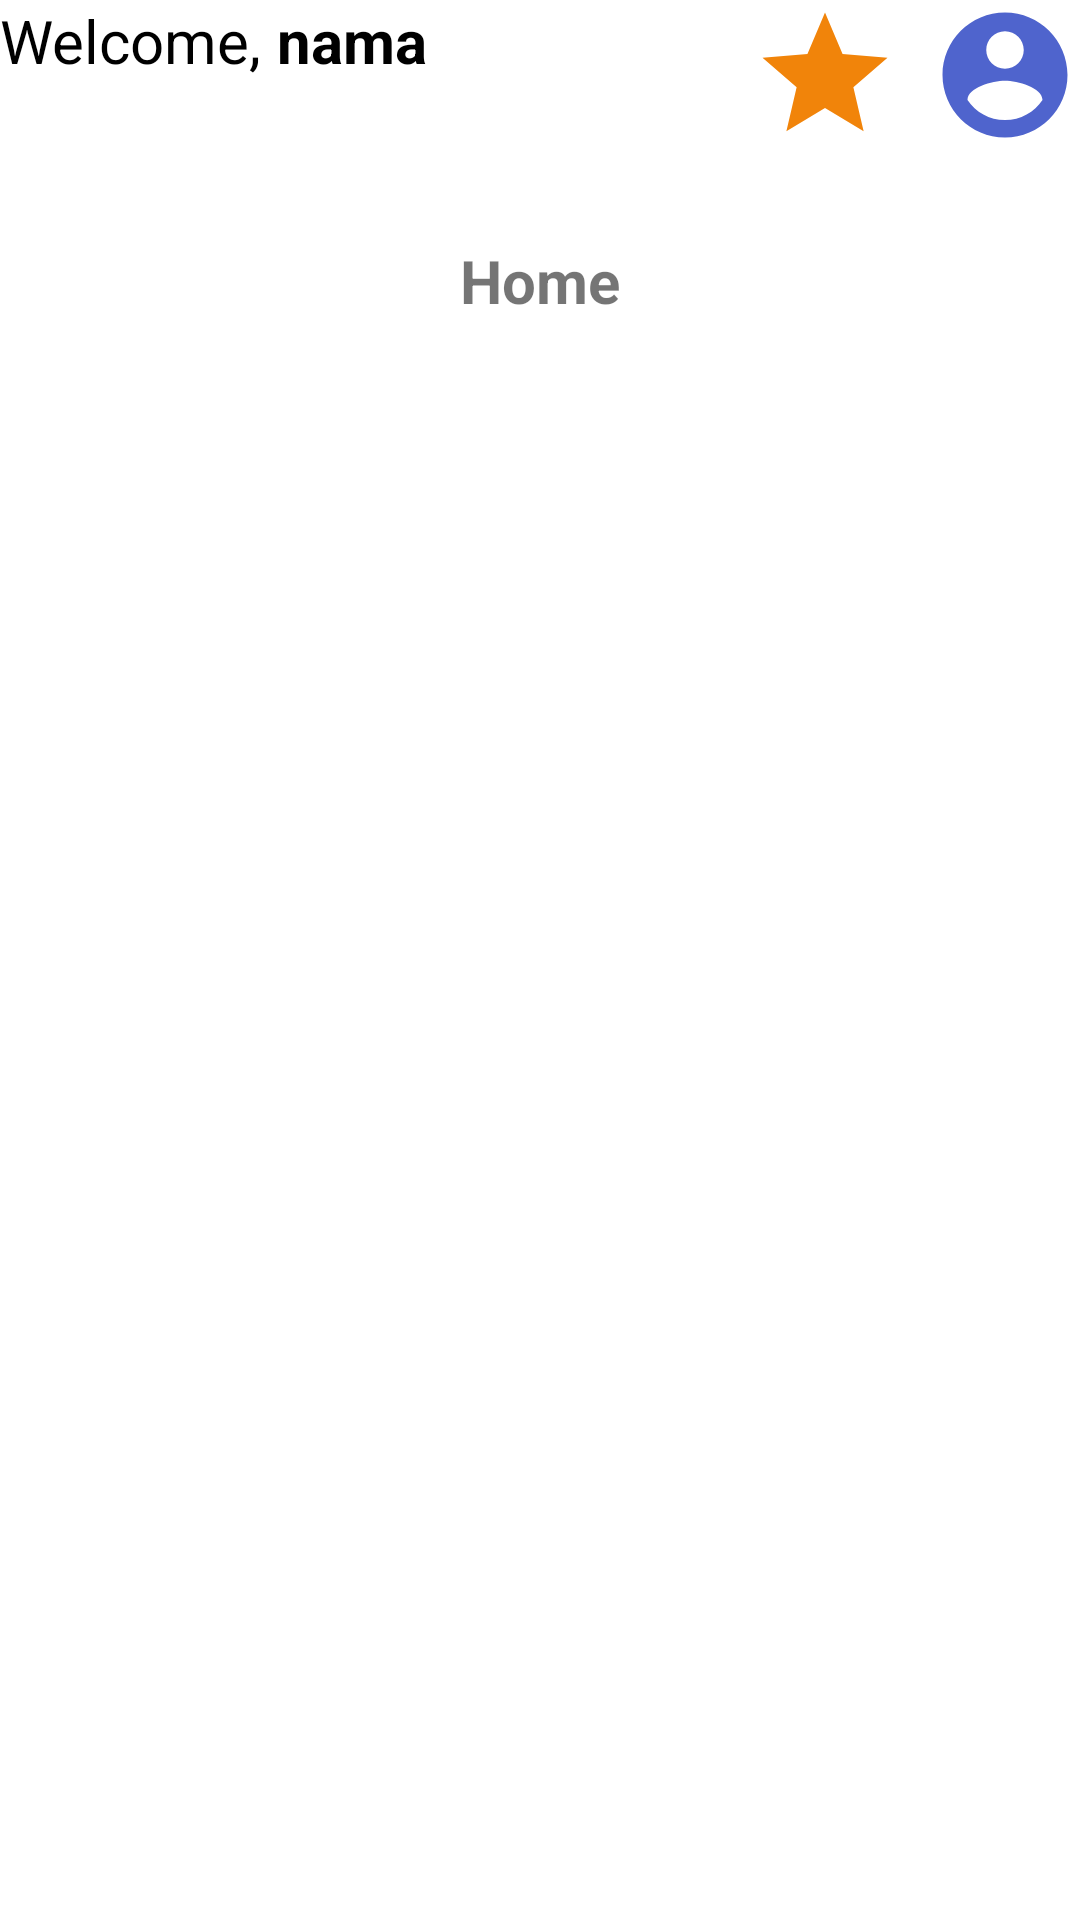

Icon bounding boxes for this 1080*1920 phone screenshot, format (x1, y1, x2, y2):
account circle: (942, 12, 1068, 138)
star: (763, 13, 887, 131)
